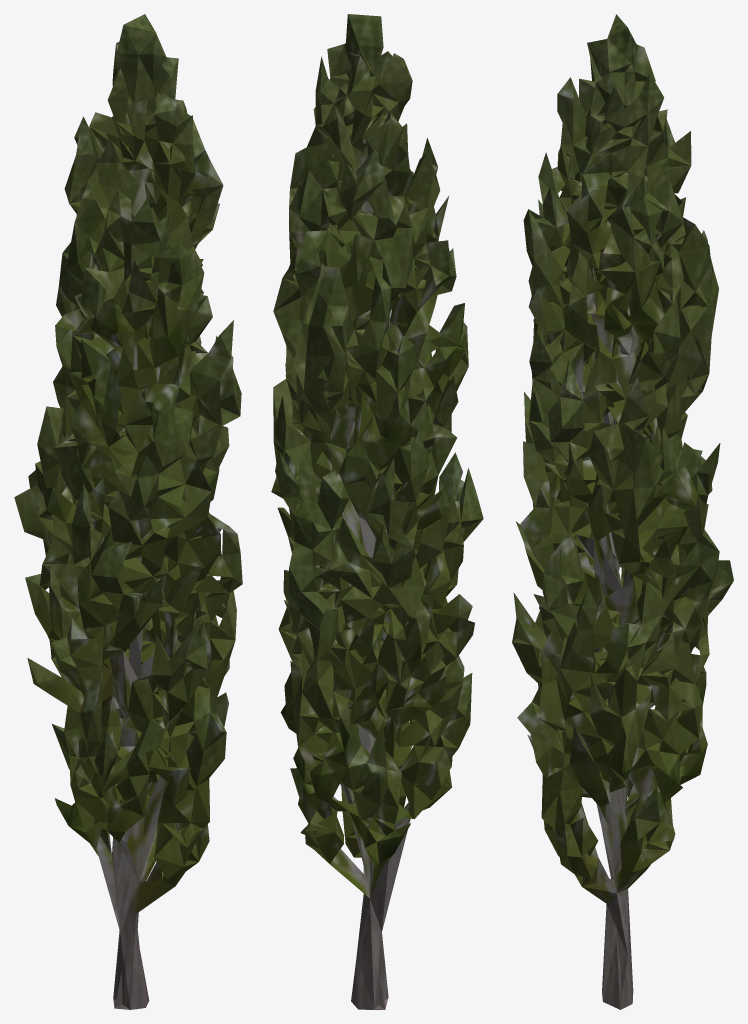
File: tree_poplar_b.glb
The picture shows the model from 3 angles, left to right: view 1: azimuth 30°, elevation 25°; view 2: azimuth 150°, elevation 25°; view 3: azimuth 270°, elevation 25°; orthographic projection.
Parts seen in each view (by area): view 1: geometry_0; view 2: geometry_0; view 3: geometry_0.
Boxes of the visible parts, x1,y1,x2,y2 form: geometry_0: (14, 14, 242, 1009); geometry_0: (271, 14, 483, 1009); geometry_0: (512, 14, 733, 1009).
Size of the model in its own units: 0.1936 by 1 by 0.2047.
Materials: 1 (1 with a texture image).
